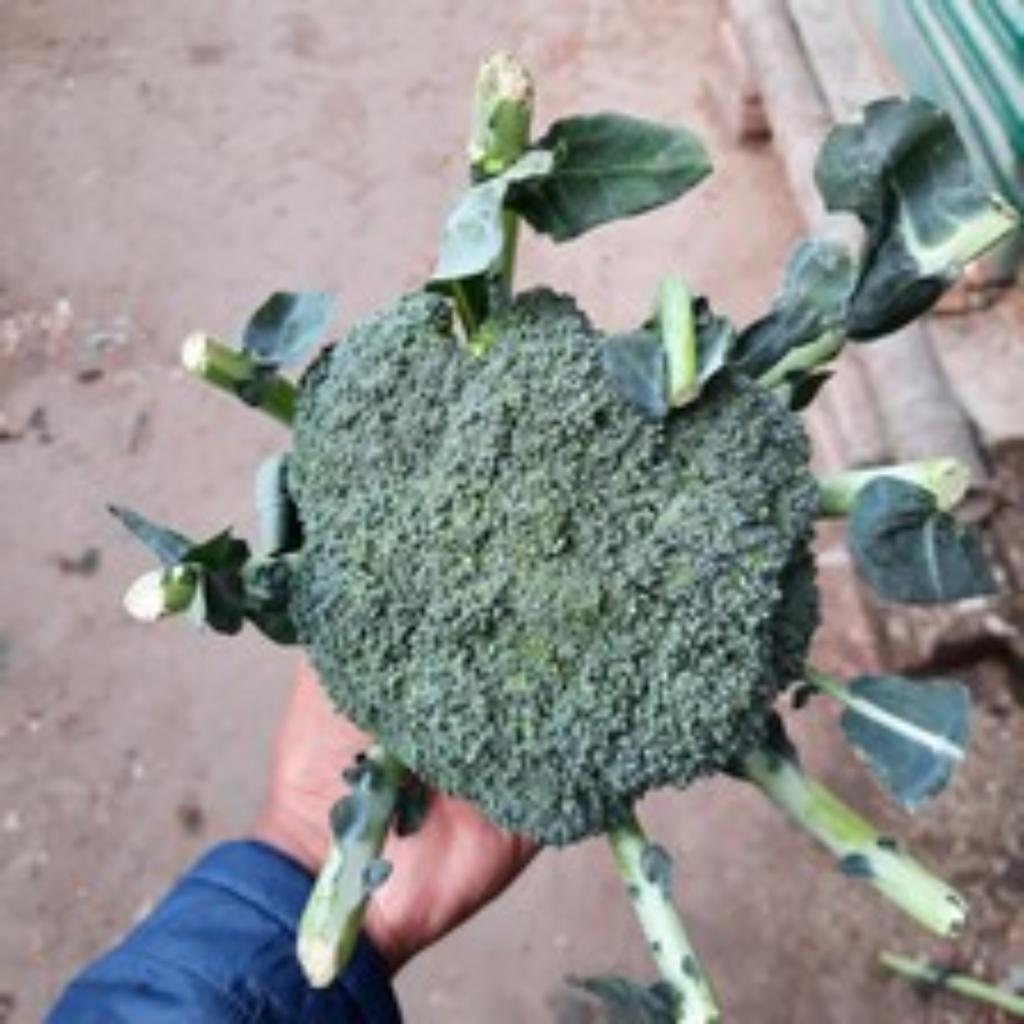Broccoli: (290, 292, 814, 843)
